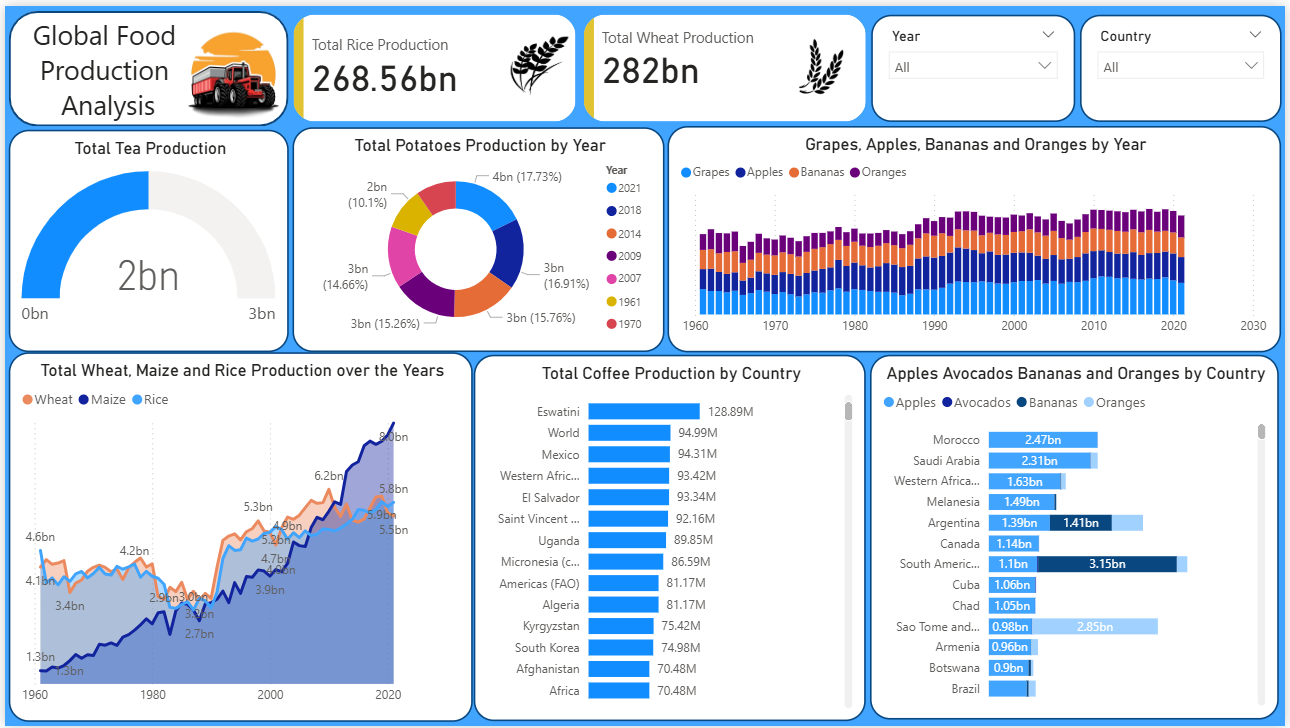

Layout of this report page (visuals, bound fields, positions):
{"tool":"powerbi","page":{"name":"Page 1","canvas":[1280,720],"ordinal":0},"visuals":[{"type":"shape","box":[3.6,4.8,279.8,115.5],"z":0},{"type":"cardVisual","fields":{"Data":["Sum(world food production.Rice  Production ( tonnes))","Sum(world food production.Wheat Production (tonnes))"]},"box":[283.6,3.6,582.7,117.3],"z":1000},{"type":"gauge","title":"Total Tea Production","fields":{"Y":["Sum(world food production.Tea  Production ( tonnes ))"]},"box":[4,124,280,222.7],"z":2000},{"type":"clusteredBarChart","title":"Total Coffee Production by Country","fields":{"Y":["Sum(world food production.Coffee Production ( tonnes))"],"Category":["world food production.Entity"]},"box":[469.3,349.3,392,366.7],"z":3000},{"type":"areaChart","title":"Total Wheat, Maize  and Rice Production over the Years","fields":{"Y":["Sum(world food production.Wheat Production (tonnes))","Sum(world food production.Maize Production (tonnes))","Sum(world food production.Rice  Production ( tonnes))"],"Category":["world food production.Year"]},"box":[4,346.7,464,369.3],"z":4000},{"type":"barChart","title":"Apples Avocados Bananas and Oranges by Country","fields":{"Category":["world food production.Entity"],"Y":["Sum(world food production.Apples Production (tonnes))","Sum(world food production.Avocados Production (tonnes))","Sum(world food production.Bananas  Production ( tonnes))","Sum(world food production.Oranges  Production (tonnes))"]},"box":[864.4,348.9,408.9,364.4],"z":5000},{"type":"donutChart","title":"Total Potatoes Production by Year","fields":{"Y":["Sum(world food production.Potatoes  Production (tonnes))"],"Category":["world food production.Year"]},"box":[287,121,372,225],"z":6000},{"type":"slicer","title":"Total Grapes, Apples, Bananas and Oranges  Production over the Years","fields":{"Values":["world food production.Year"]},"box":[866.4,9.1,203.6,107.3],"z":7000},{"type":"slicer","title":"Total Grapes, Apples, Bananas and Oranges  Production over the Years","fields":{"Values":["world food production.Entity"]},"box":[1074.5,9.1,201.8,107.3],"z":7001},{"type":"columnChart","fields":{"Category":["world food production.Year"],"Y":["Sum(world food production.Grapes  Production (tonnes))","Sum(world food production.Apples Production (tonnes))","Sum(world food production.Bananas  Production ( tonnes))","Sum(world food production.Oranges  Production (tonnes))"]},"box":[662.7,120,613.3,226.7],"z":7002},{"type":"textbox","box":[5,5,188.8,123.8],"z":7003},{"type":"image","box":[162.5,0,132.5,128.8],"z":7004}]}

Visuals, with their boxes in screenshot pixels (x1, y1, x2, y2), scaled from the page's 1280x720 canvas onto the 1290x728 screenshot:
shape: bbox(4, 5, 286, 122)
cardVisual - Sum(world food production.Rice  Production ( tonnes)) x Sum(world food production.Wheat Production (tonnes)): bbox(286, 4, 873, 122)
"Total Tea Production" gauge: bbox(4, 125, 286, 351)
"Total Coffee Production by Country" clusteredBarChart: bbox(473, 353, 868, 724)
"Total Wheat, Maize  and Rice Production over the Years" areaChart: bbox(4, 351, 472, 724)
"Apples Avocados Bananas and Oranges by Country" barChart: bbox(871, 353, 1283, 721)
"Total Potatoes Production by Year" donutChart: bbox(289, 122, 664, 350)
"Total Grapes, Apples, Bananas and Oranges  Production over the Years" slicer: bbox(873, 9, 1078, 118)
"Total Grapes, Apples, Bananas and Oranges  Production over the Years" slicer: bbox(1083, 9, 1286, 118)
columnChart - world food production.Year x Sum(world food production.Grapes  Production (tonnes)): bbox(668, 121, 1286, 351)
textbox: bbox(5, 5, 195, 130)
image: bbox(164, 0, 297, 130)
